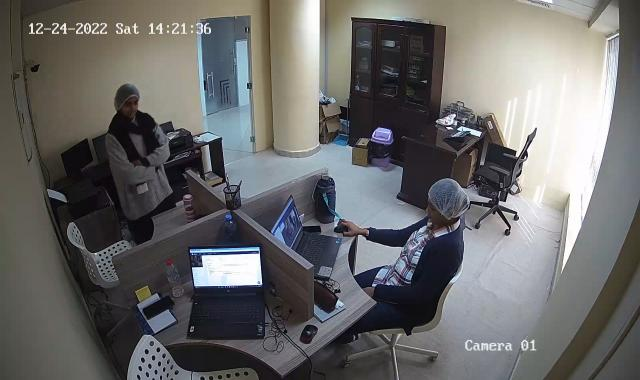hairnet: (428, 178, 467, 226), (112, 82, 140, 116)
